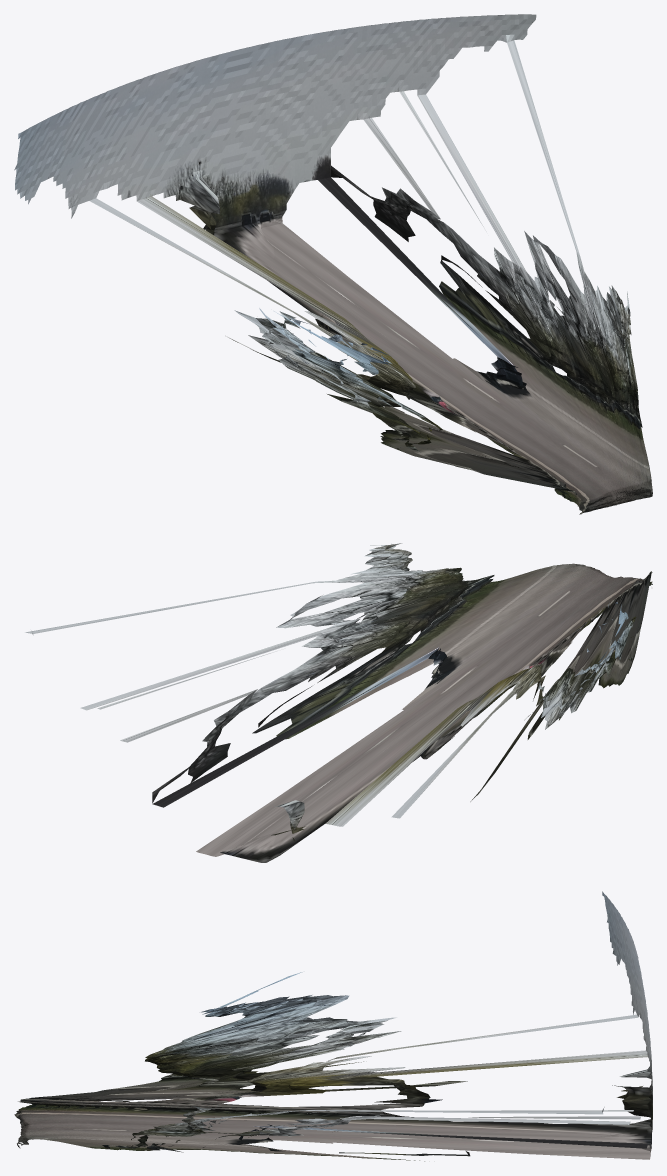
3 renders of one model, top to bottom at view 1: azimuth 30°, elevation 25°; view 2: azimuth 150°, elevation 25°; view 3: azimuth 270°, elevation 25°, orthographic. The views are drawn at different scales.
Parts seen in each view (by area): view 1: defaultobject; view 2: defaultobject; view 3: defaultobject.
Part boxes in pixels (<box>): defaultobject: <box>14,14,652,514</box>; defaultobject: <box>25,543,652,862</box>; defaultobject: <box>14,891,652,1161</box>.
Bounding box in the file's own units: 34.23 × 12.09 × 44.54.
Materials: 1 (1 with a texture image).
